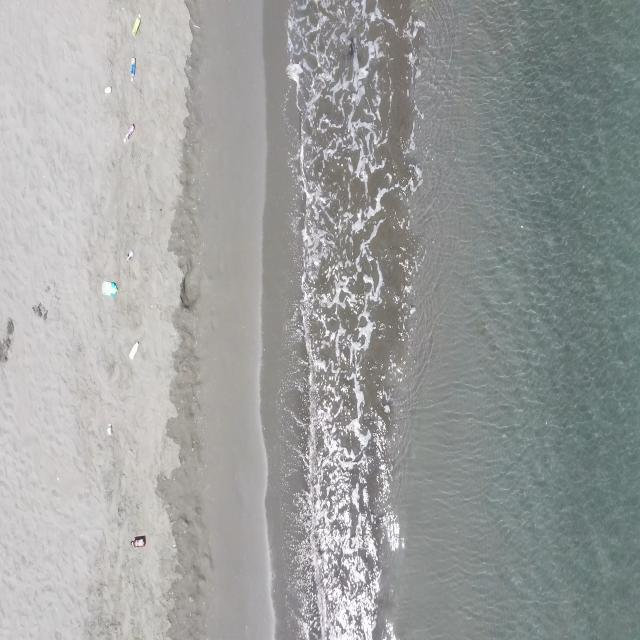Garbage: (32, 301, 47, 320), (101, 280, 115, 296), (128, 340, 139, 359), (123, 123, 134, 141), (131, 13, 140, 35), (129, 56, 136, 80), (131, 535, 144, 546), (125, 249, 132, 260), (104, 85, 111, 94), (107, 423, 111, 435)
